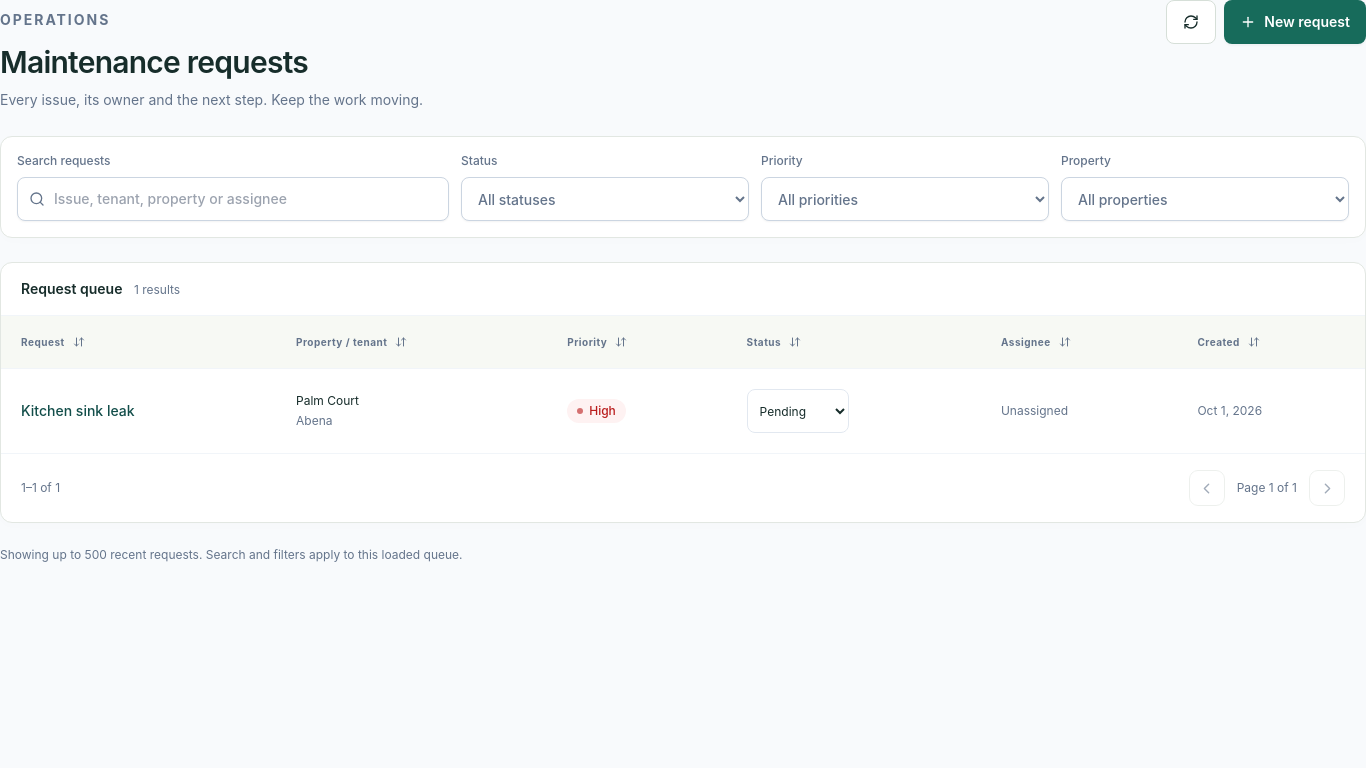
Test case: new request dialog is named and preserves input when cancelled and reopened
Check: the button "Kitchen sink leak" is shown, box [21,401,135,421]
Click the button "New request". click: click(1295, 22)
box: [1224,0,1365,44]
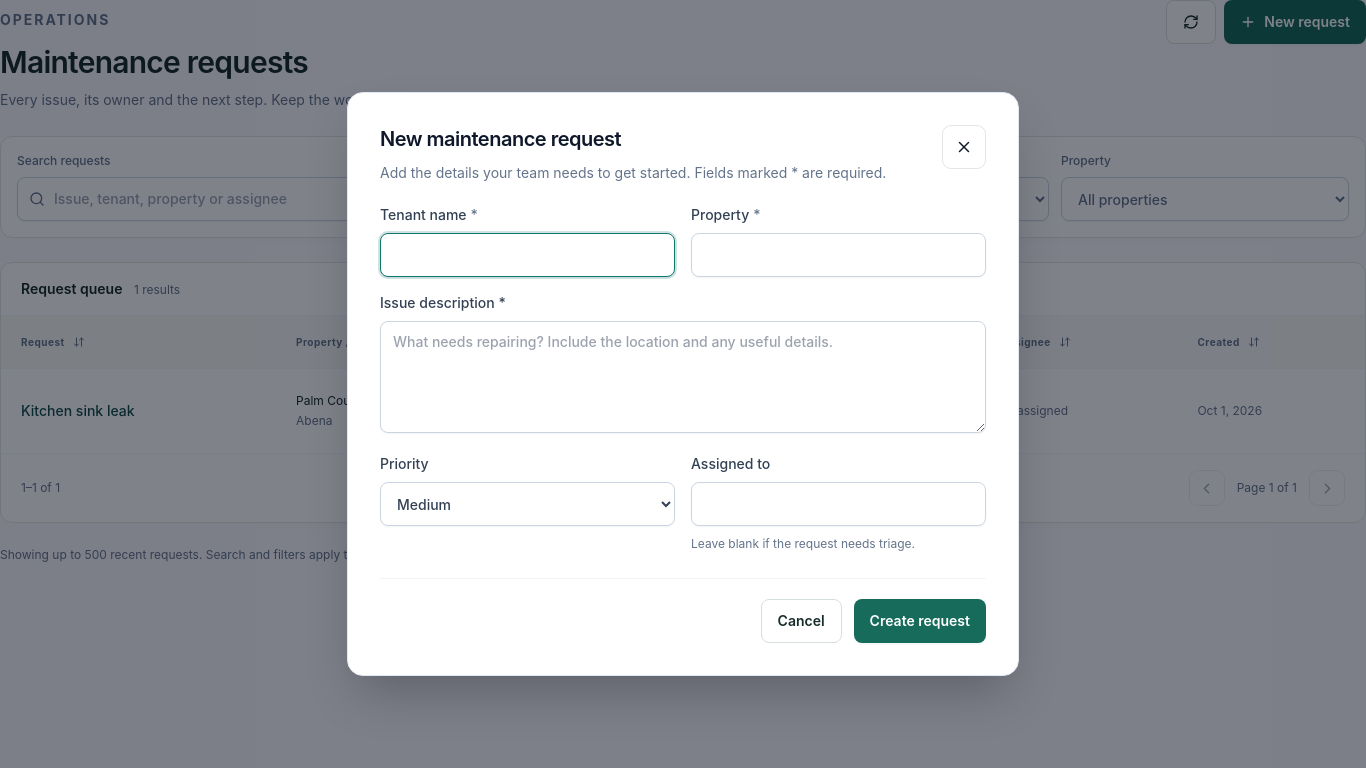
Type "Abena" into the field labelled "Tenant name*". click: (528, 255)
box: [380,233,675,277]
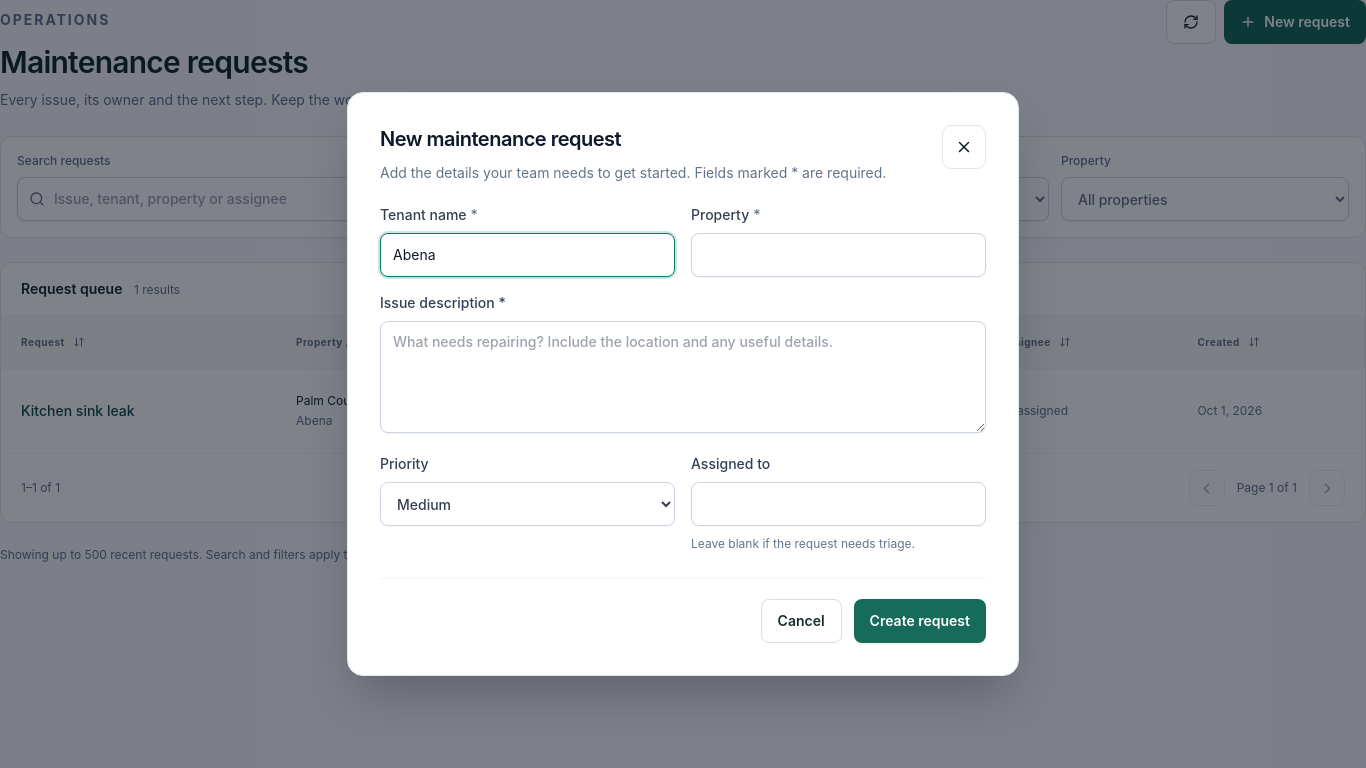
Click the button "Cancel". click: click(801, 621)
box: [761,599,842,643]
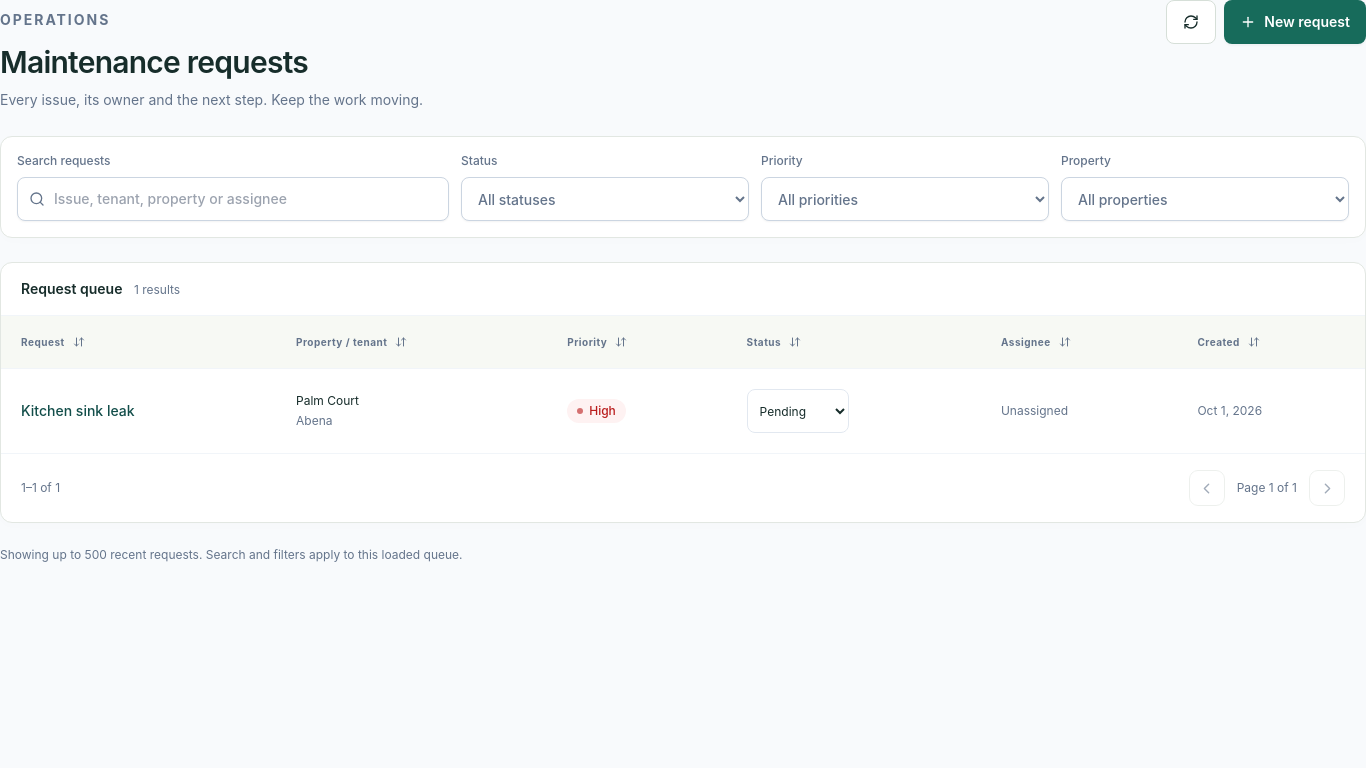
Check: the dialog is gone
Click the button "New request". click: click(1295, 22)
box: [1224,0,1365,44]
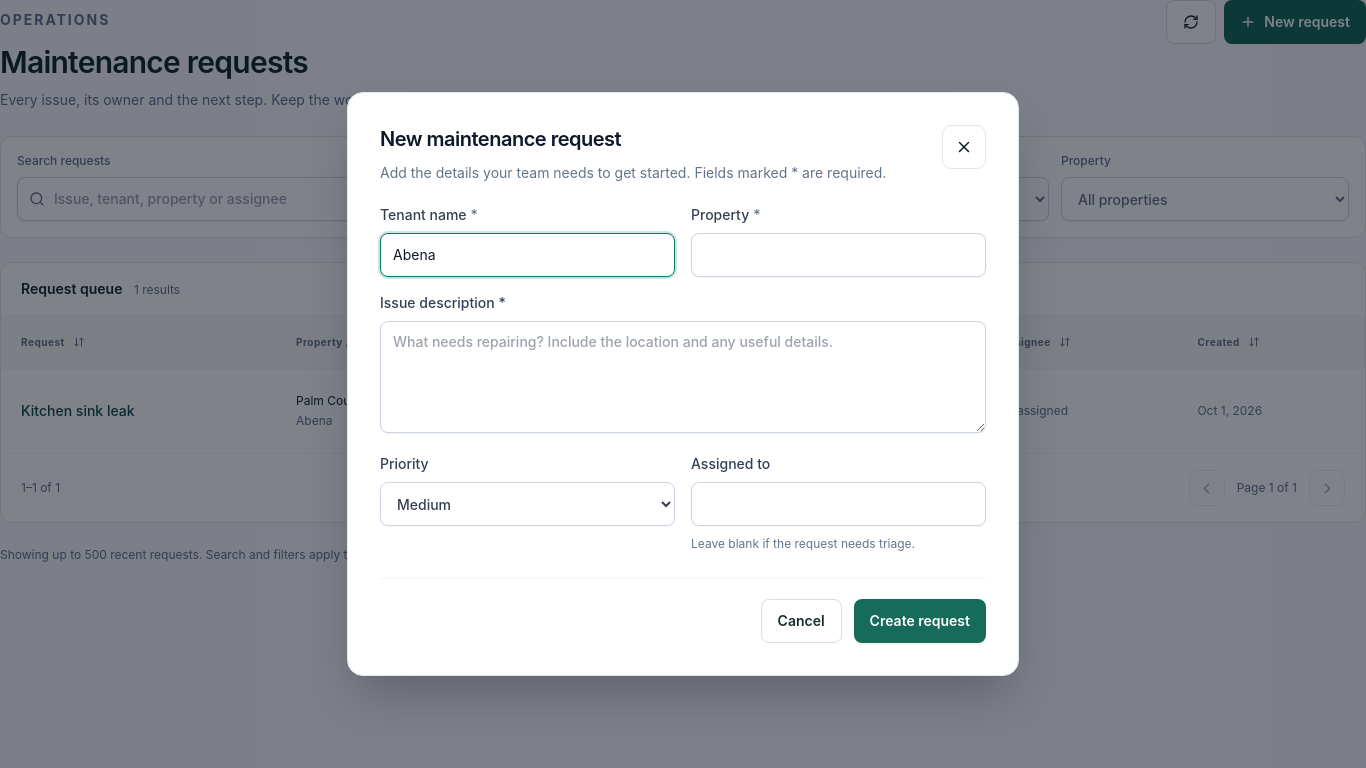
Check: the field labelled "Tenant name*" holds "Abena", box [380,233,675,277]
